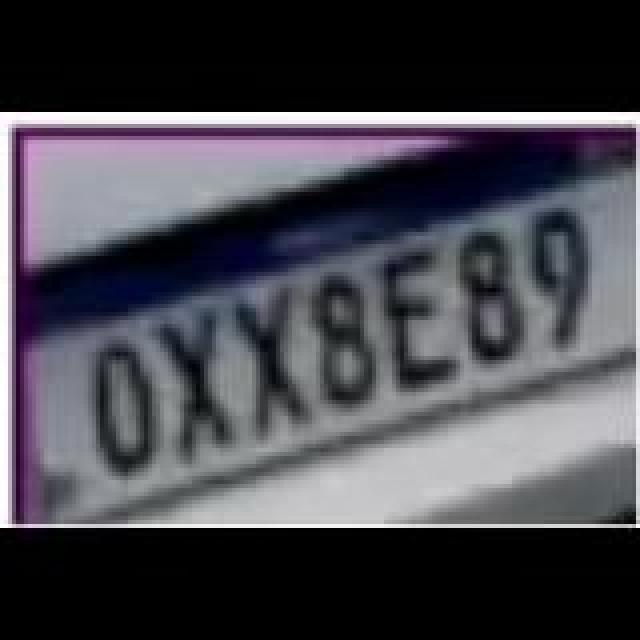8: (454, 232, 530, 368), (312, 276, 384, 412)
9: (526, 210, 594, 350)
E: (378, 248, 462, 392)
O: (92, 342, 164, 482)
X: (160, 310, 240, 458), (232, 290, 312, 438)
